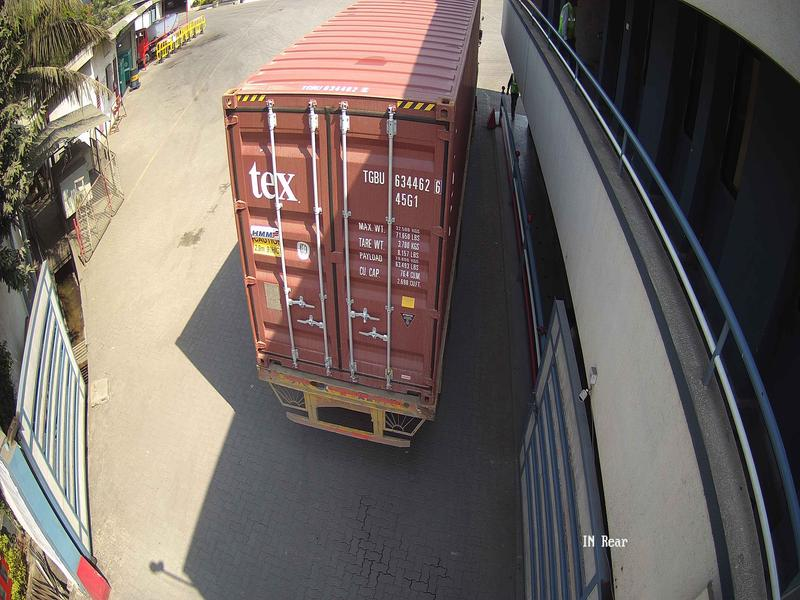container: (213, 94, 478, 417)
